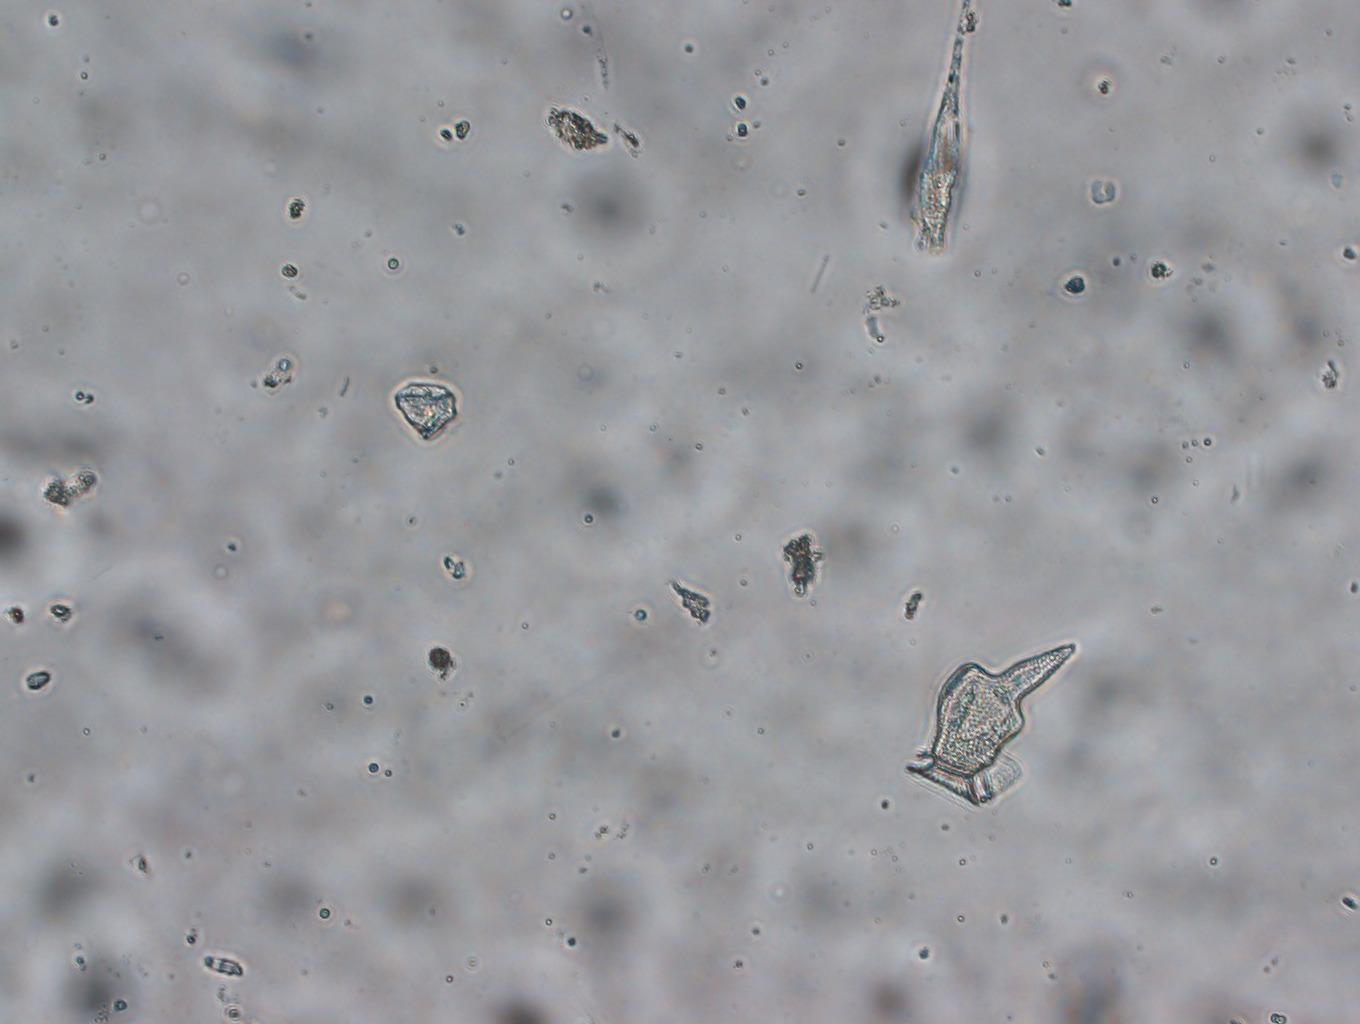dinophysis caudata: (904, 642, 1077, 809)
